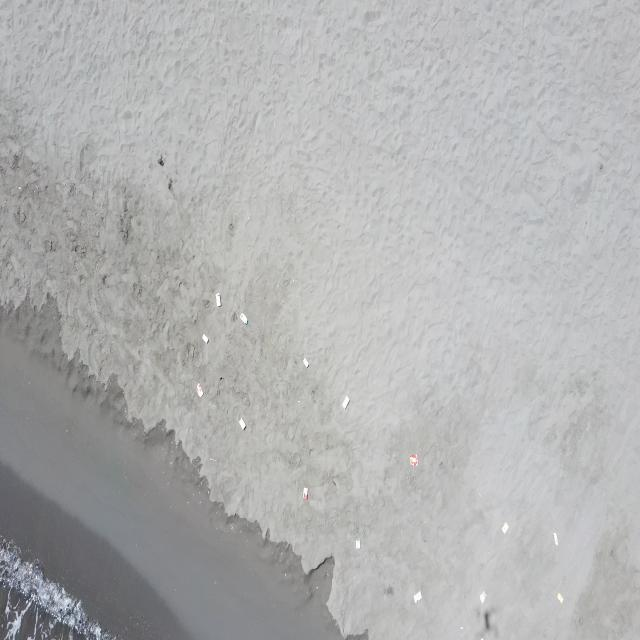retort-pouch: (409, 452, 419, 468), (413, 589, 422, 605), (341, 394, 350, 410), (479, 590, 488, 604), (501, 521, 510, 535), (215, 292, 222, 309), (196, 382, 203, 398), (240, 312, 248, 326), (202, 332, 210, 346), (552, 532, 559, 548), (302, 486, 309, 501), (239, 417, 246, 432), (302, 356, 310, 369), (556, 592, 564, 604), (354, 538, 362, 550)
